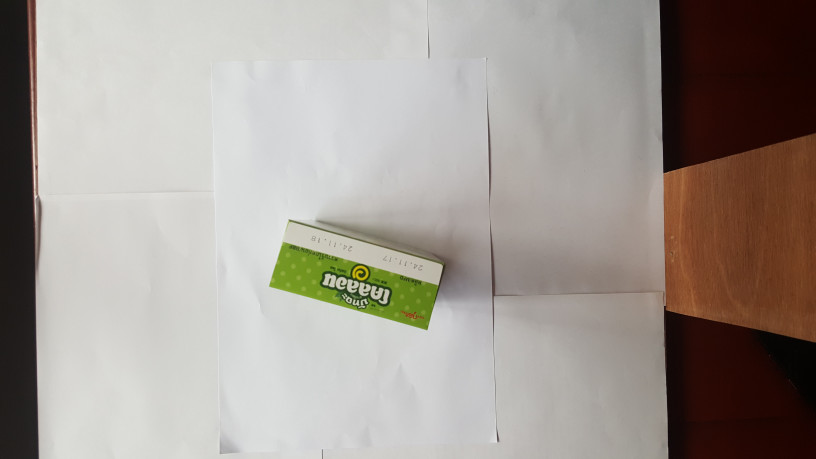collon-matcha: (265, 218, 448, 336)
